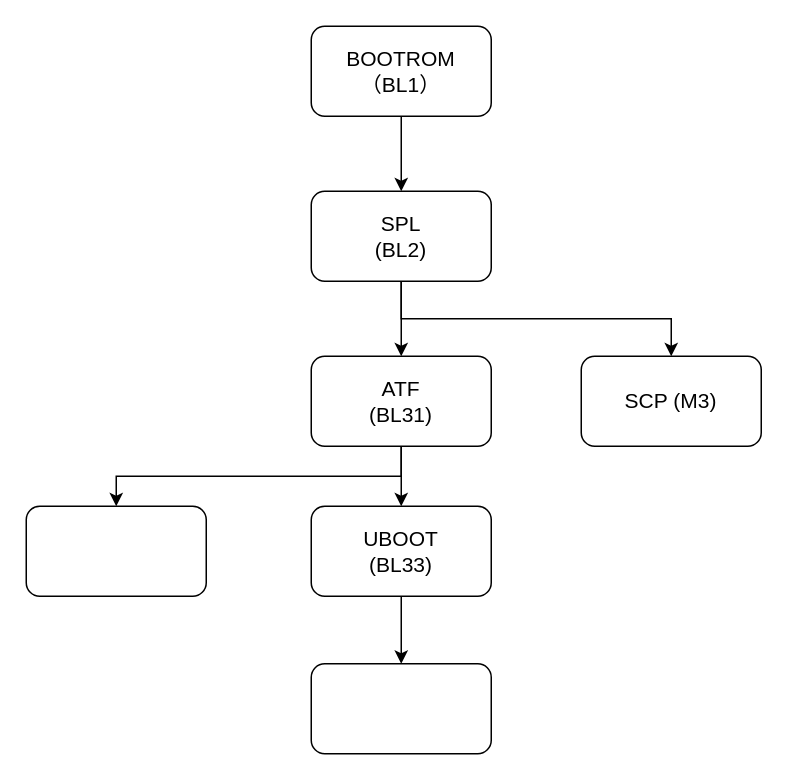
Some shapes in this 788 by 780 pixel diagram are drawn without their labels. Here are the shapes that lost their labels. From the top down, the centre of each, then its label:
point 115,550: OPTEE (BL32)
point 400,708: Linux kernel
